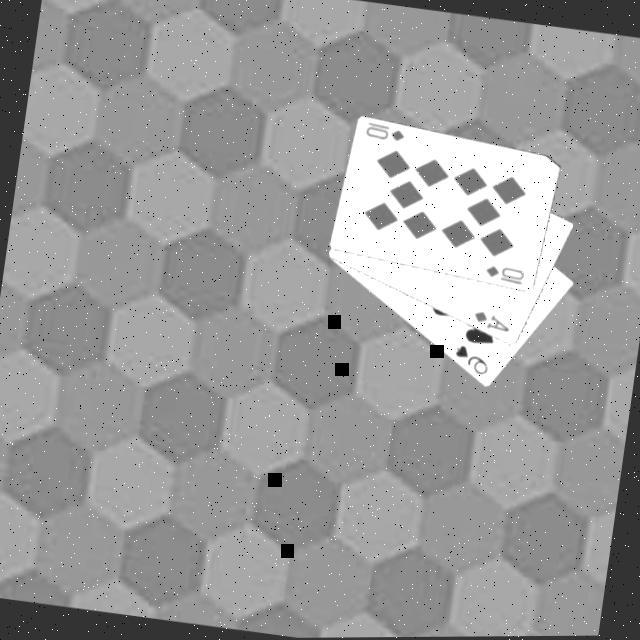10D: (364, 120, 411, 147), (484, 263, 530, 290)
9S: (451, 343, 495, 381)
AD: (471, 309, 518, 338)
